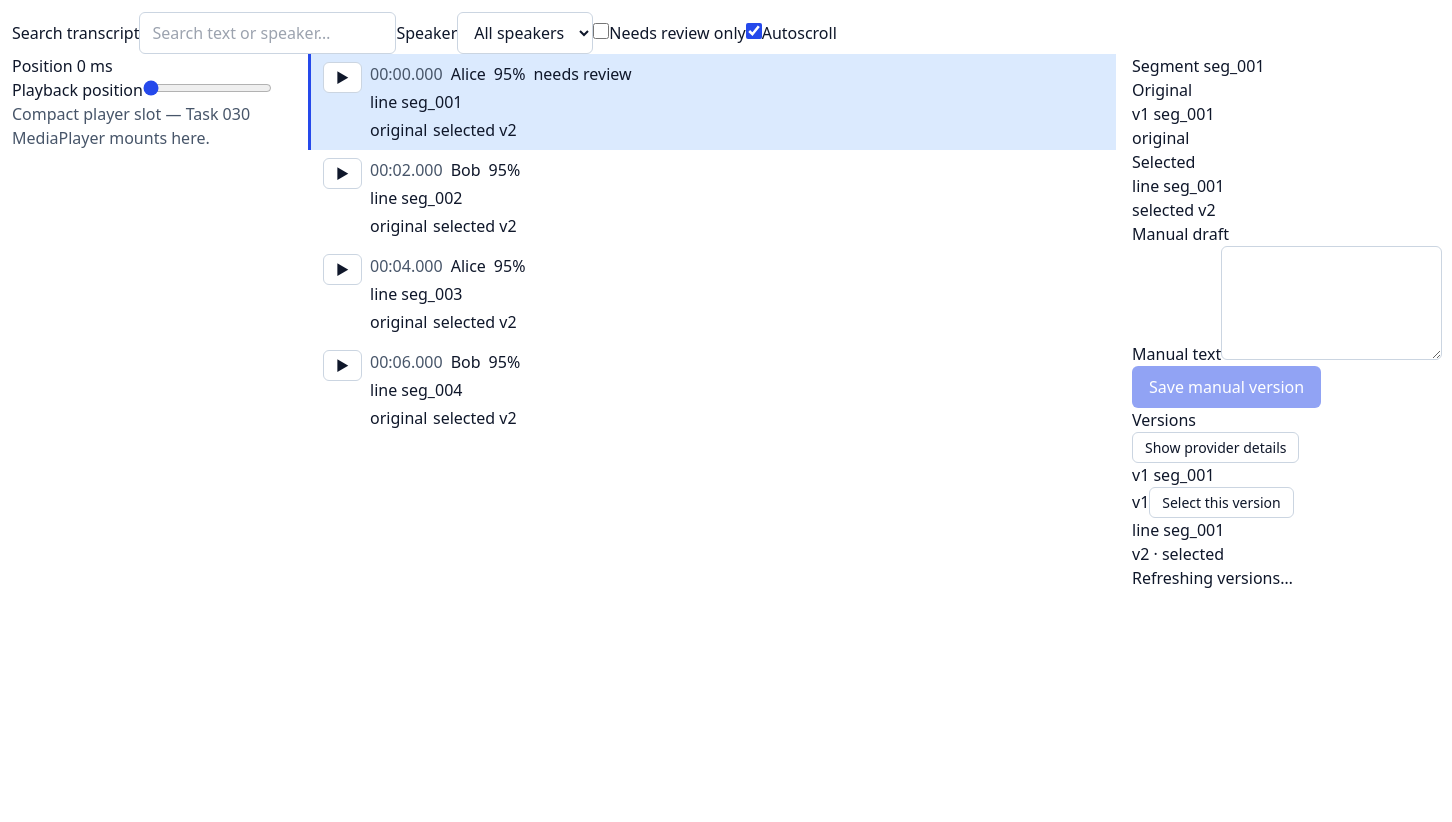
Test case: TranscriptEditor filter matrix › filters by speaker and review-only flags
The image size is (1452, 822).
Expected: the element with test id "transcript-pane-list" is shown, [308,54,1116,438]
Select "Bob" in the dropdown with test id "transcript-speaker-filter" at (525, 33), box [457,12,593,54]
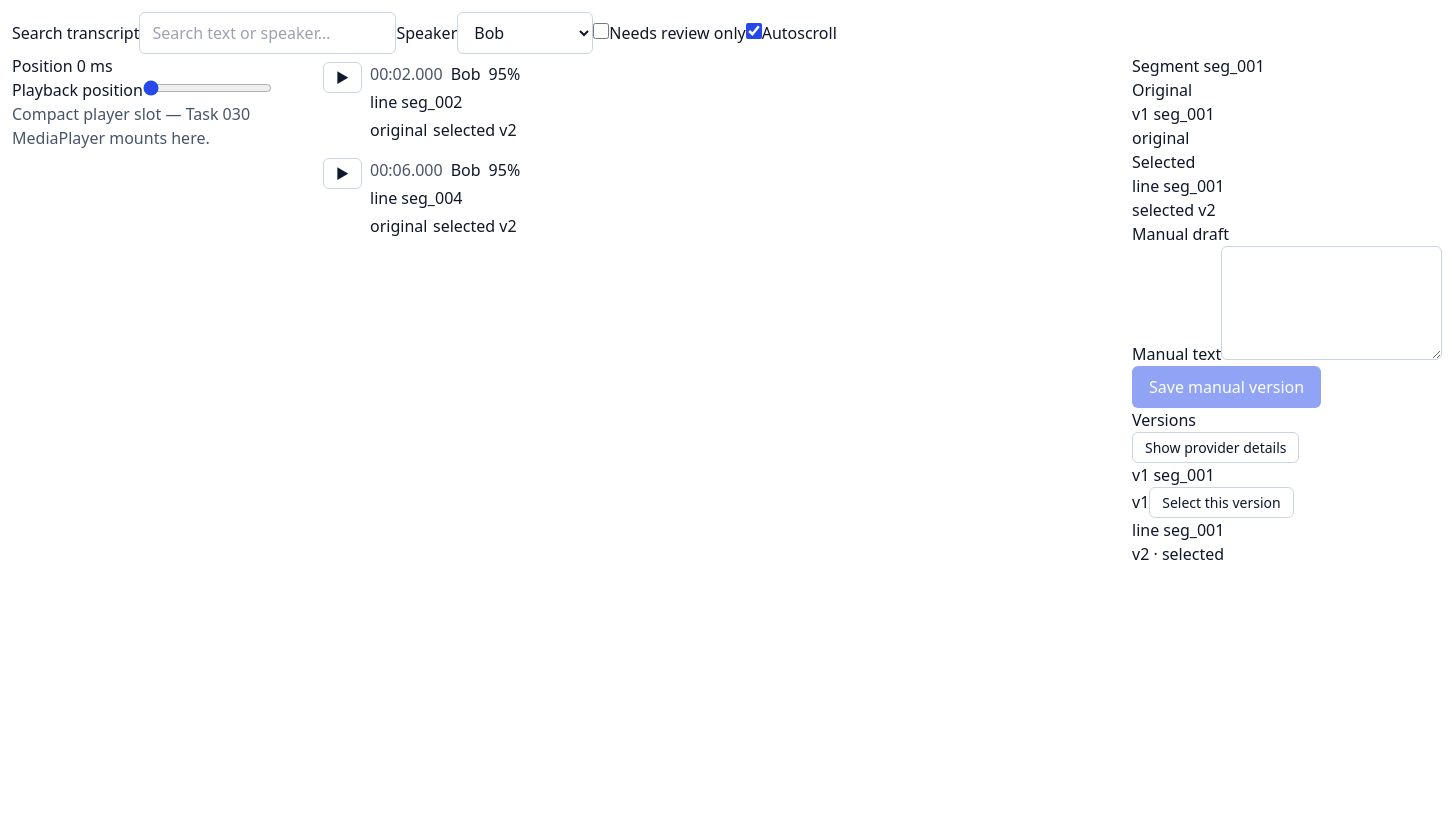
Expected: the option with test id "transcript-row-seg_002" is shown, [308,54,1116,150]
Expected: the option with test id "transcript-row-seg_001" is gone
Select "All speakers" in the dropdown with test id "transcript-speaker-filter" at (525, 33), box [457,12,593,54]
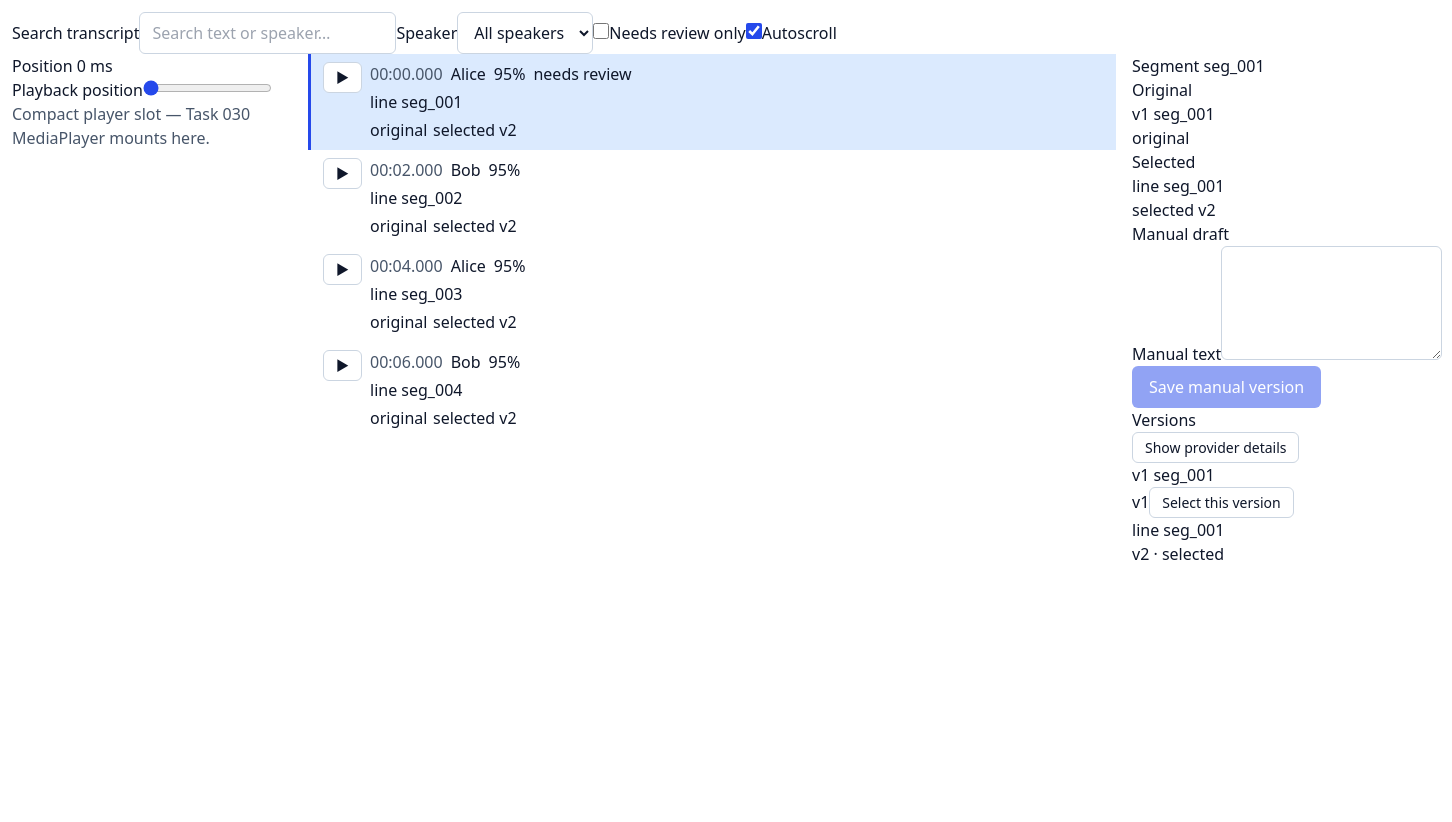
Click the checkbox with test id "transcript-review-only" at (601, 31), box [593,23,609,39]
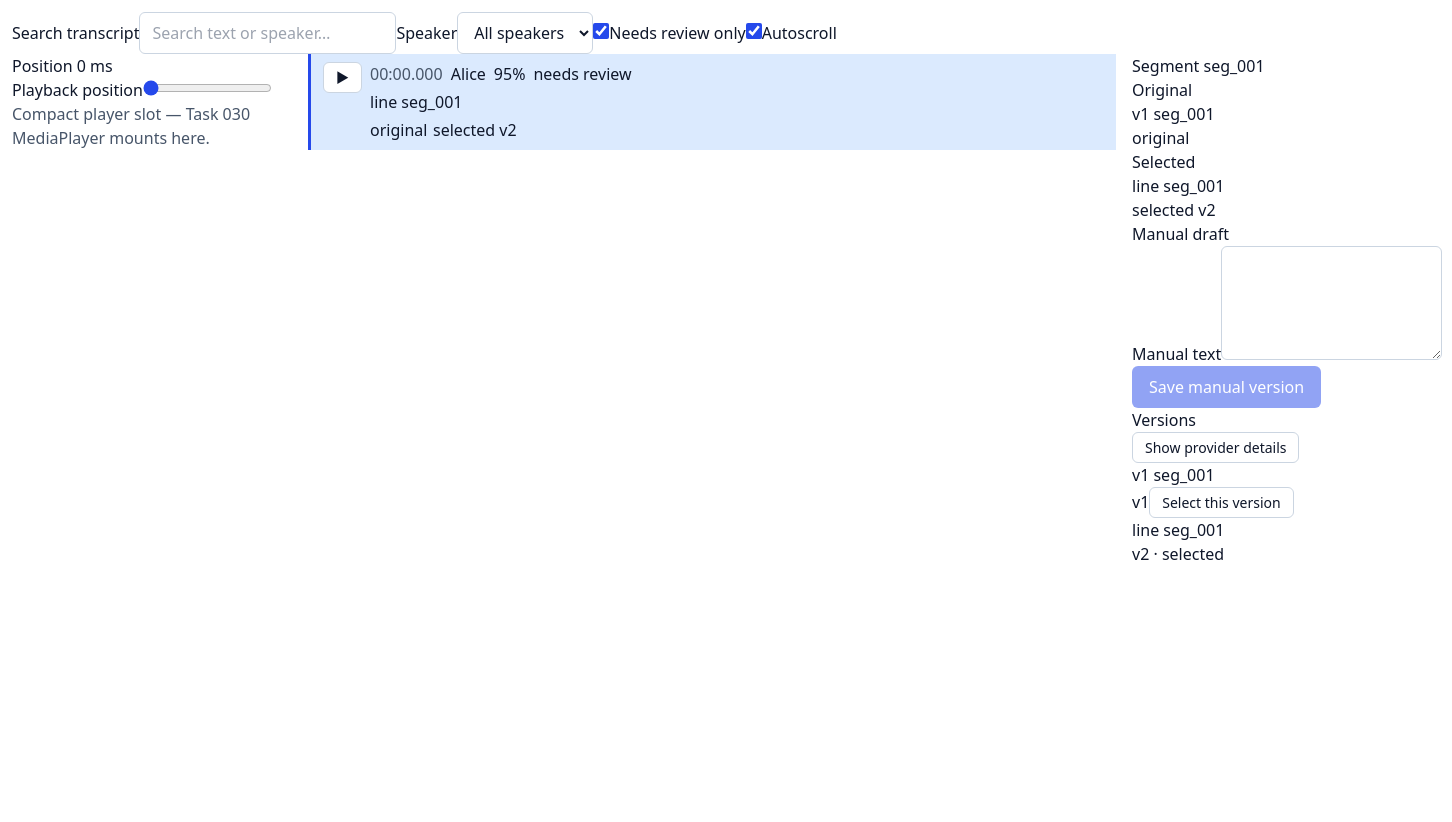
Expected: the option with test id "transcript-row-seg_001" is shown, [308,54,1116,150]
Expected: the option with test id "transcript-row-seg_002" is gone
